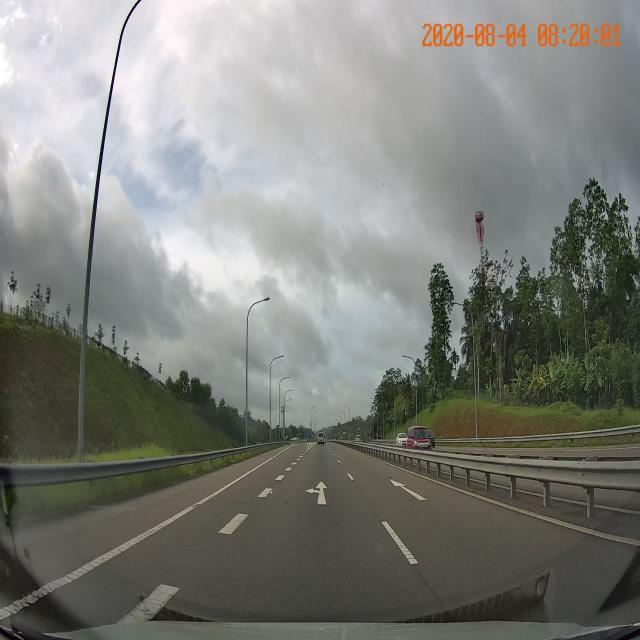forward_lft: (232, 465, 394, 528)
